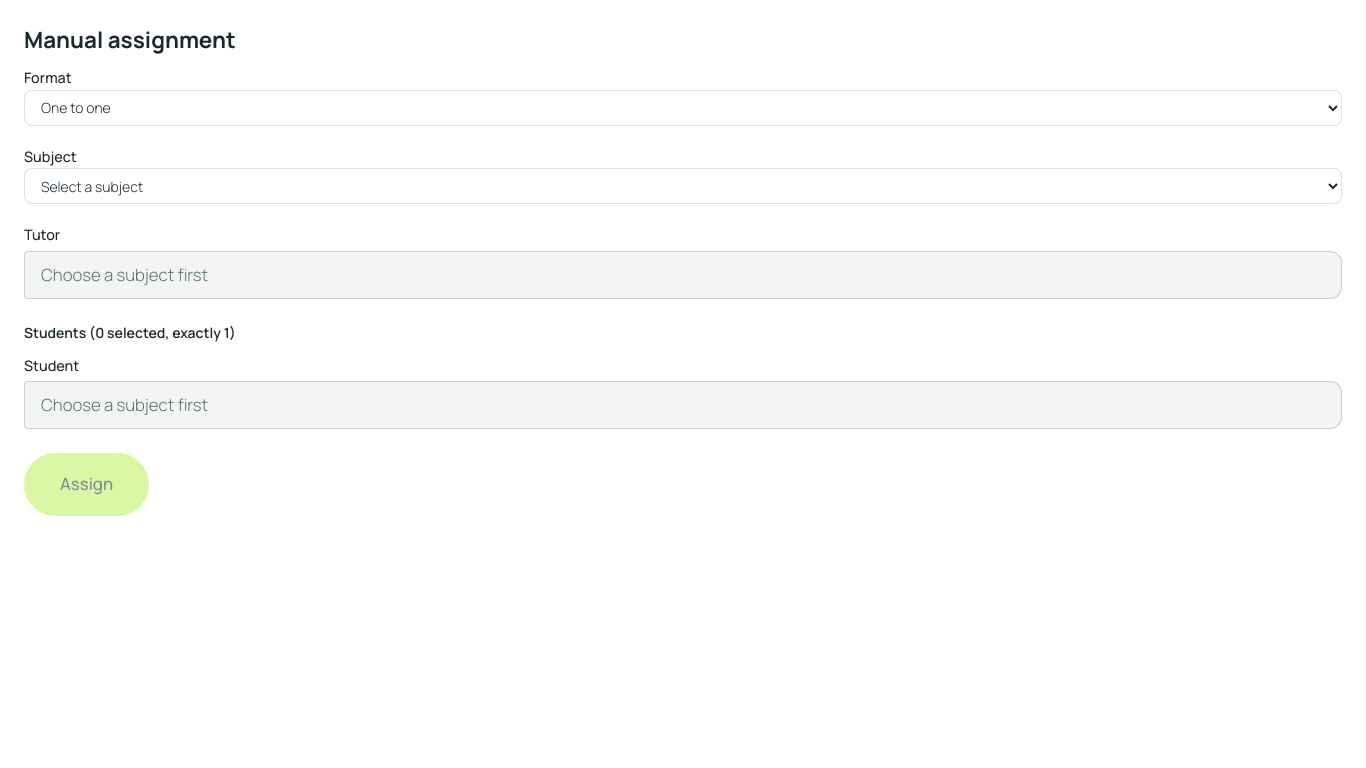
Test: ManualAssignmentPage › suggests people labelled by email, then phone
Select "Geography" in the dropdown labelled "Subject" at coordinates (683, 186), box [24, 168, 1342, 204]
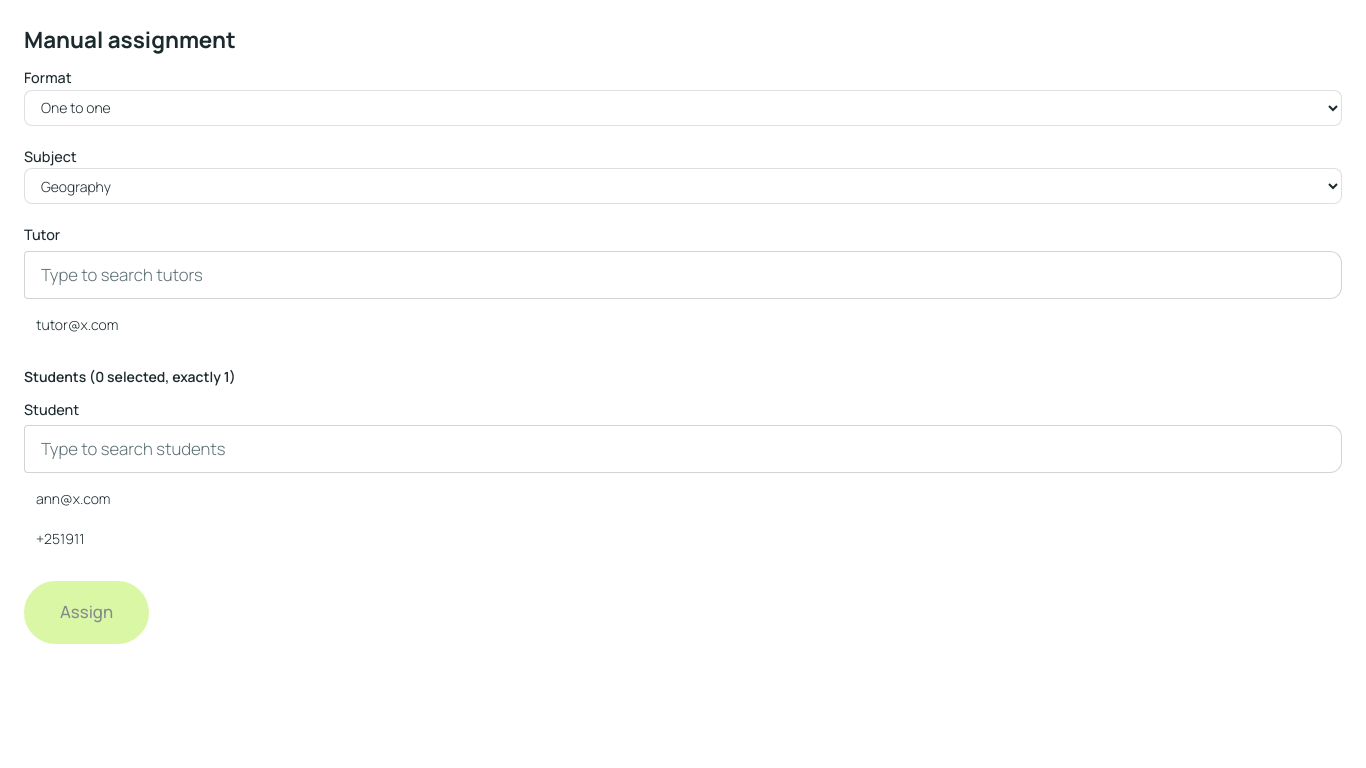
Expected: the button "tutor@x.com" is shown, [24, 307, 1342, 343]
Expected: the button "+251911" is shown, [24, 521, 1342, 557]
